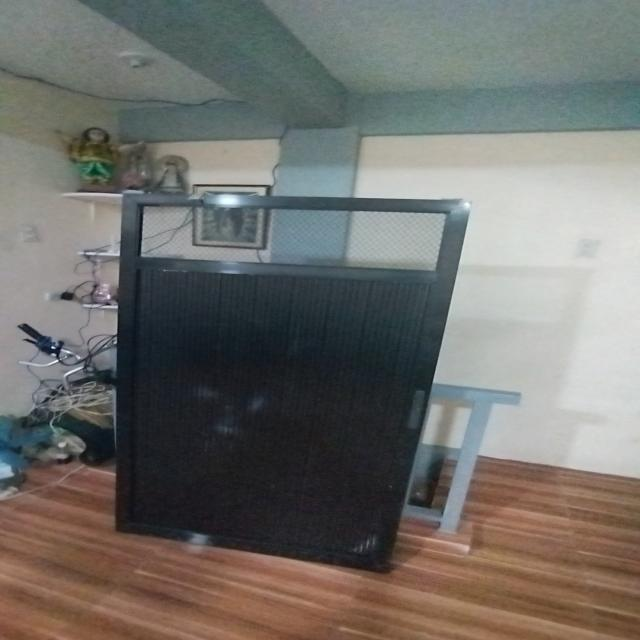door: (115, 182, 429, 573)
